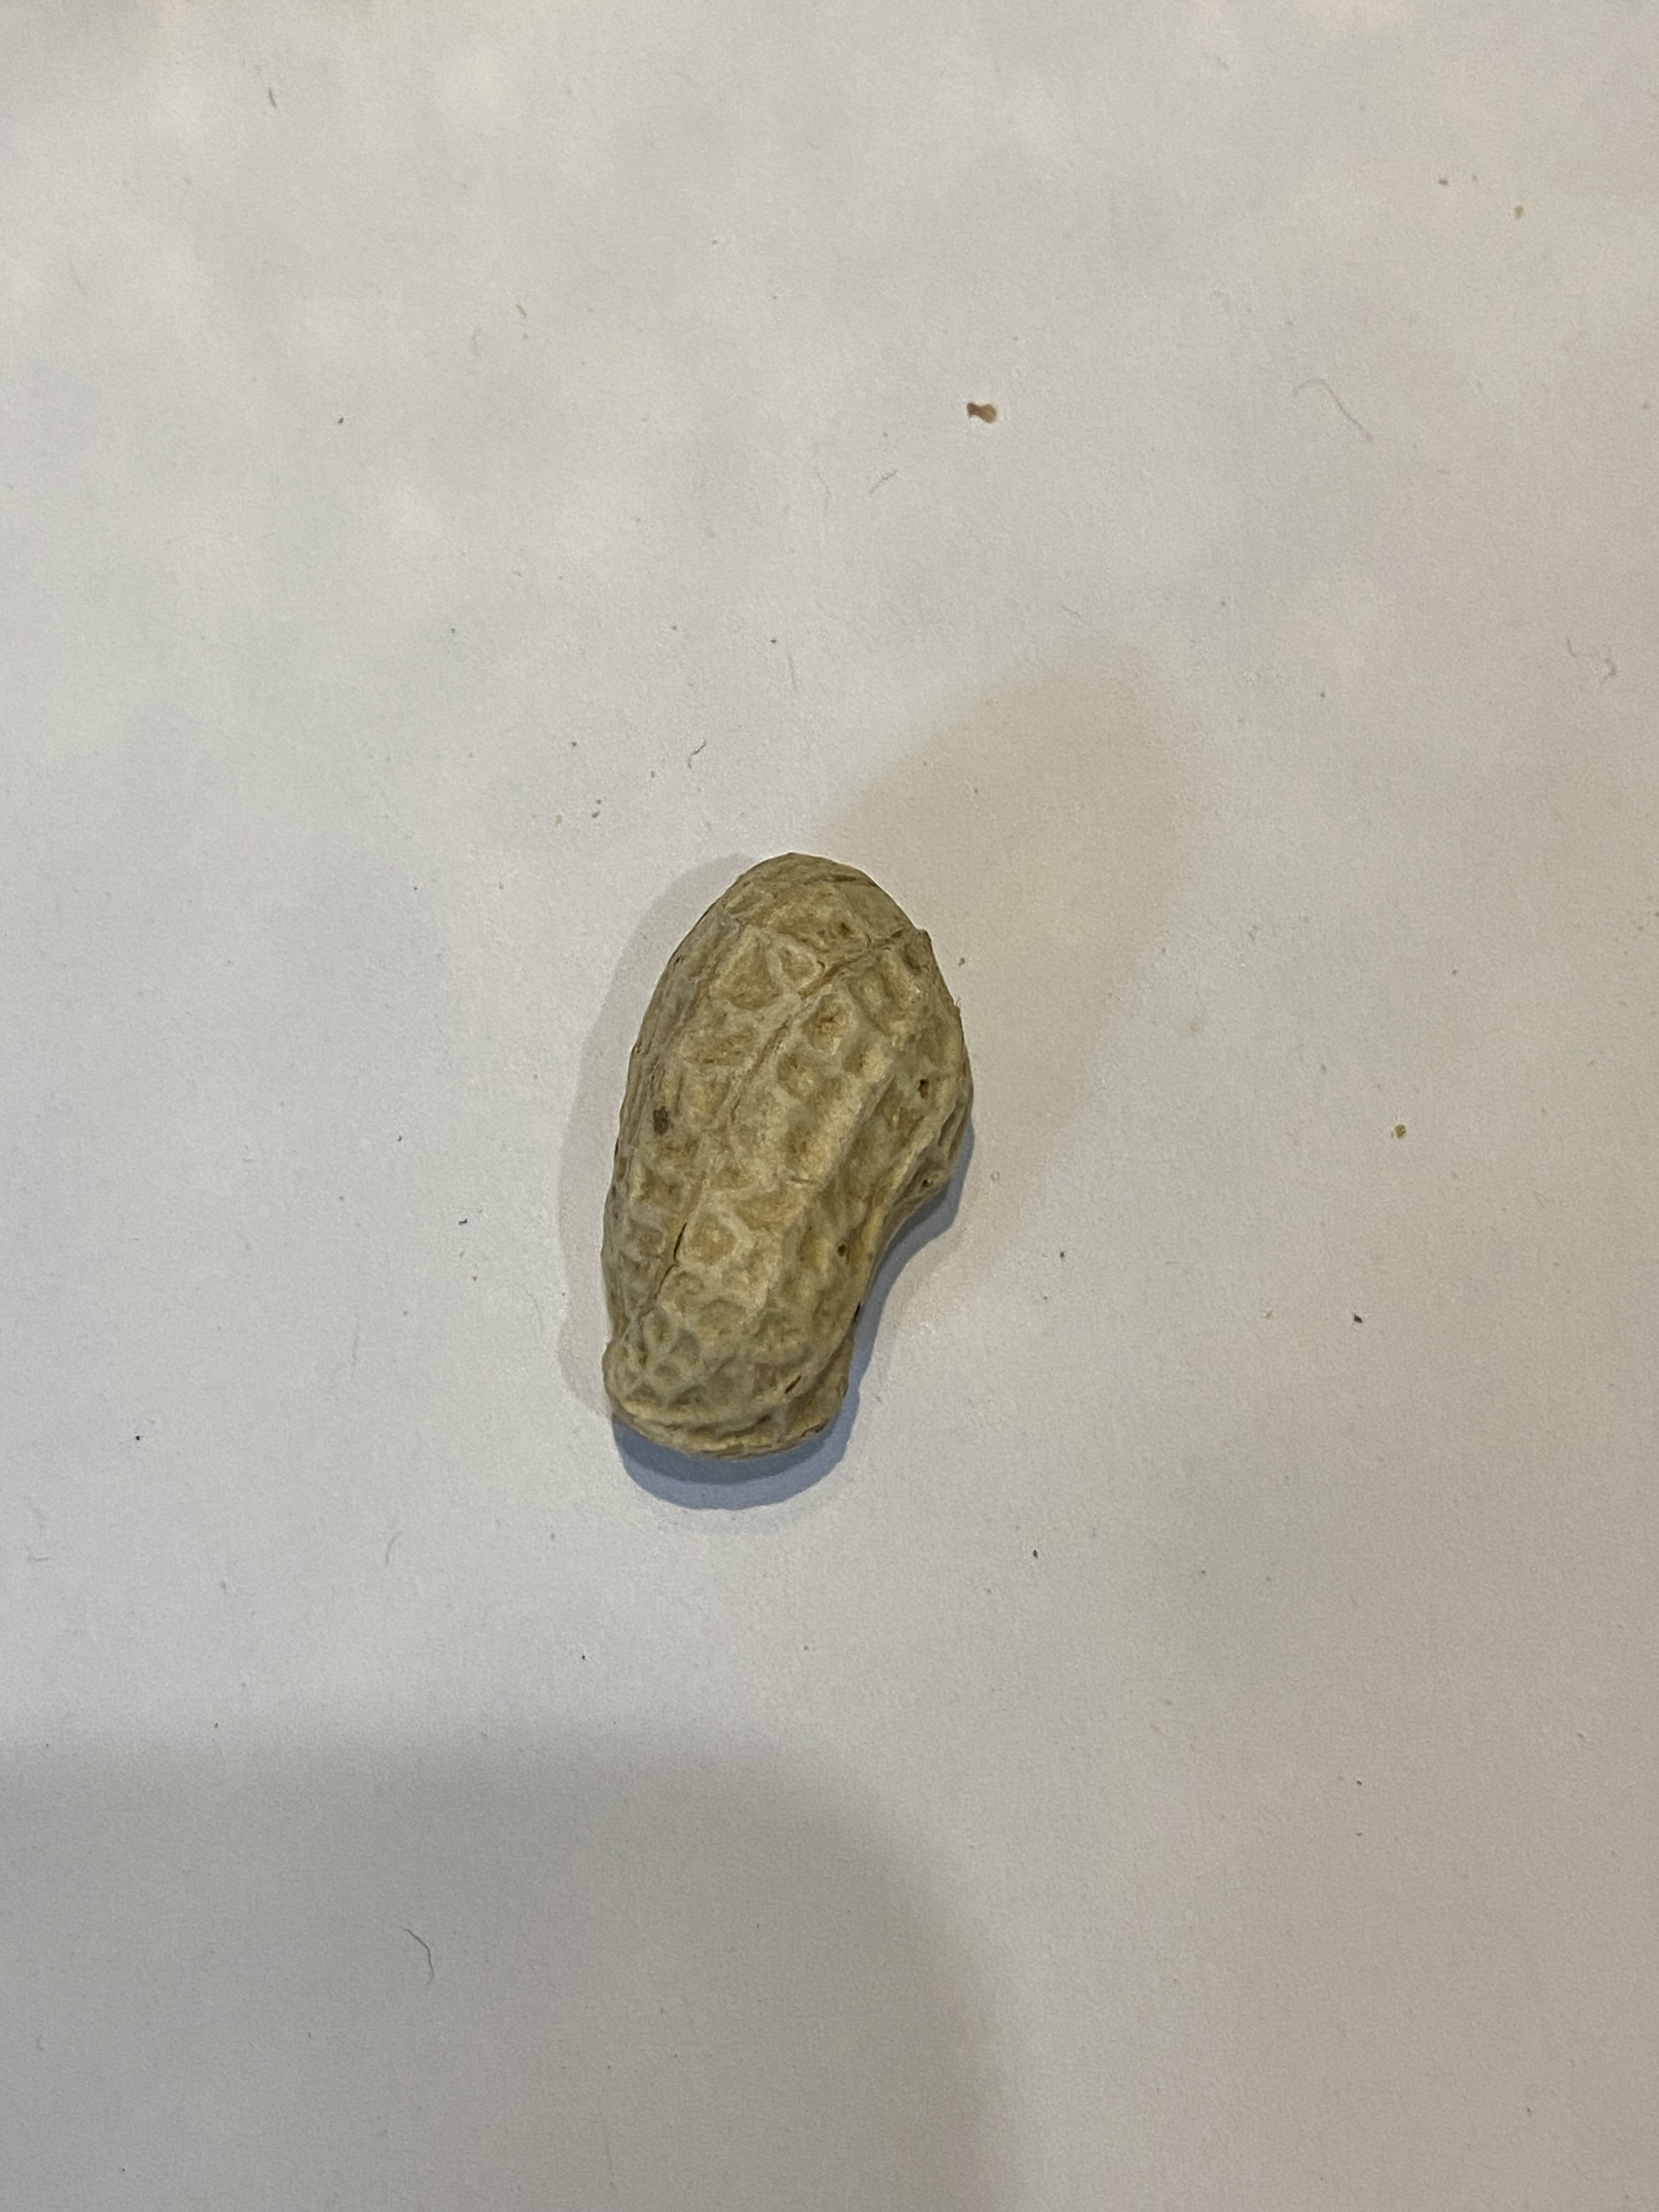kacang2: (533, 841, 978, 1467)
